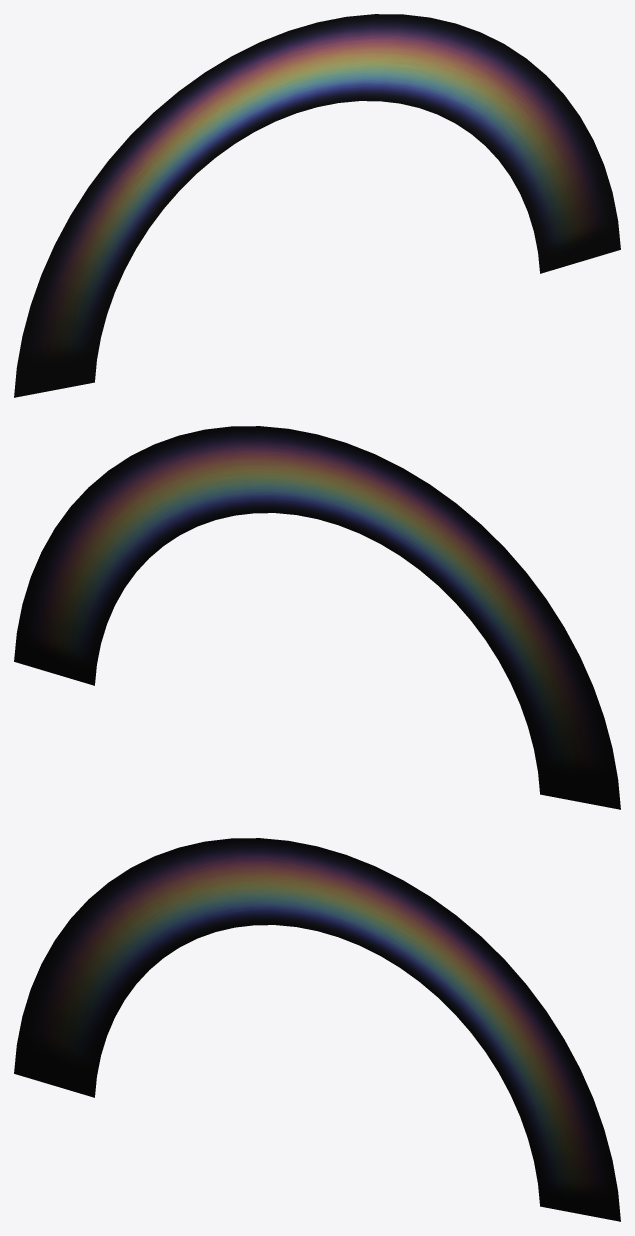
The model's file is SM_Stage003_CH.FBX.
3 views of the same model, one above another, from view 1: azimuth 30°, elevation 25°; view 2: azimuth 150°, elevation 25°; view 3: azimuth 330°, elevation 25° (orthographic).
Visible parts, largest first — view 1: SM_Stage002_CH; view 2: SM_Stage002_CH; view 3: SM_Stage002_CH.
Boxes of the visible parts, x1,y1,x2,y2 form: SM_Stage002_CH: (14,14,620,397); SM_Stage002_CH: (14,426,620,809); SM_Stage002_CH: (14,838,620,1221).
Bounding box in the file's own units: 1214 × 7.08e-06 × 585.
1 material, 1 textured.
